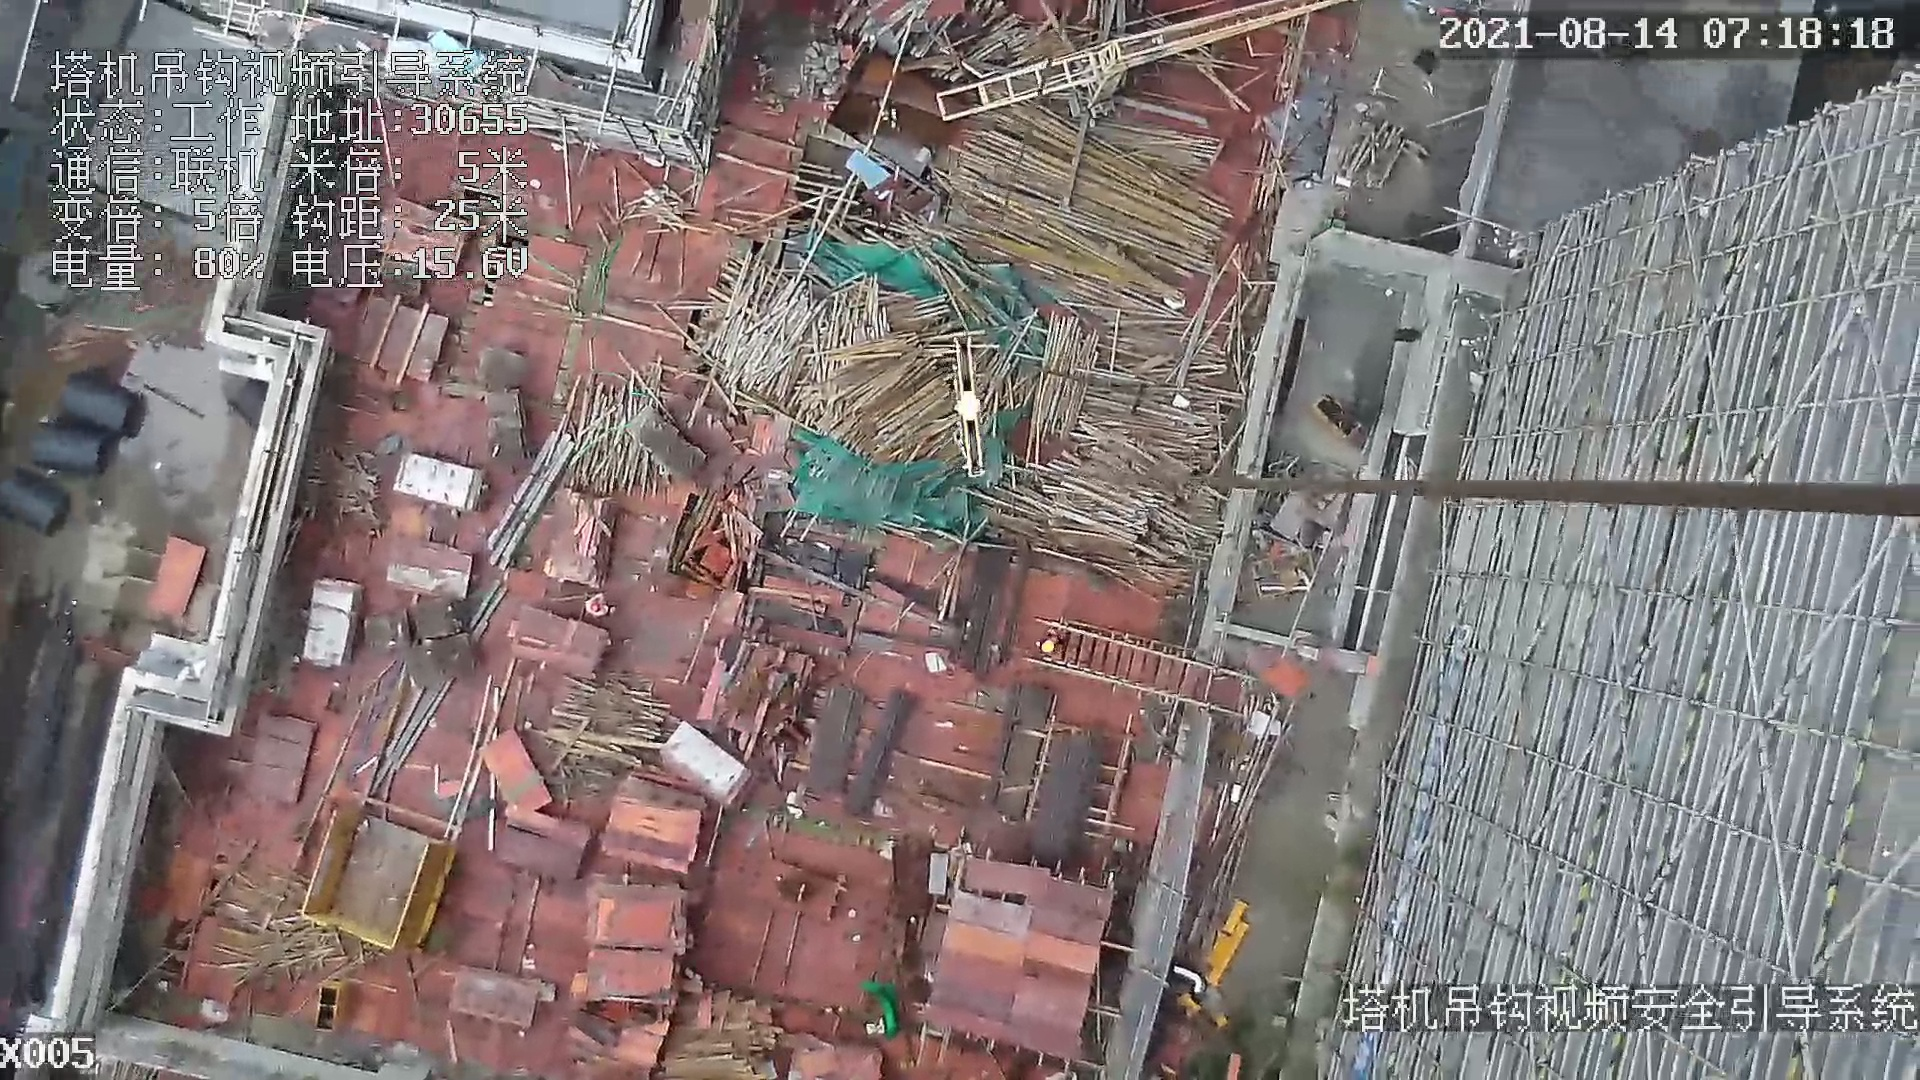hook: (928, 330, 996, 483)
